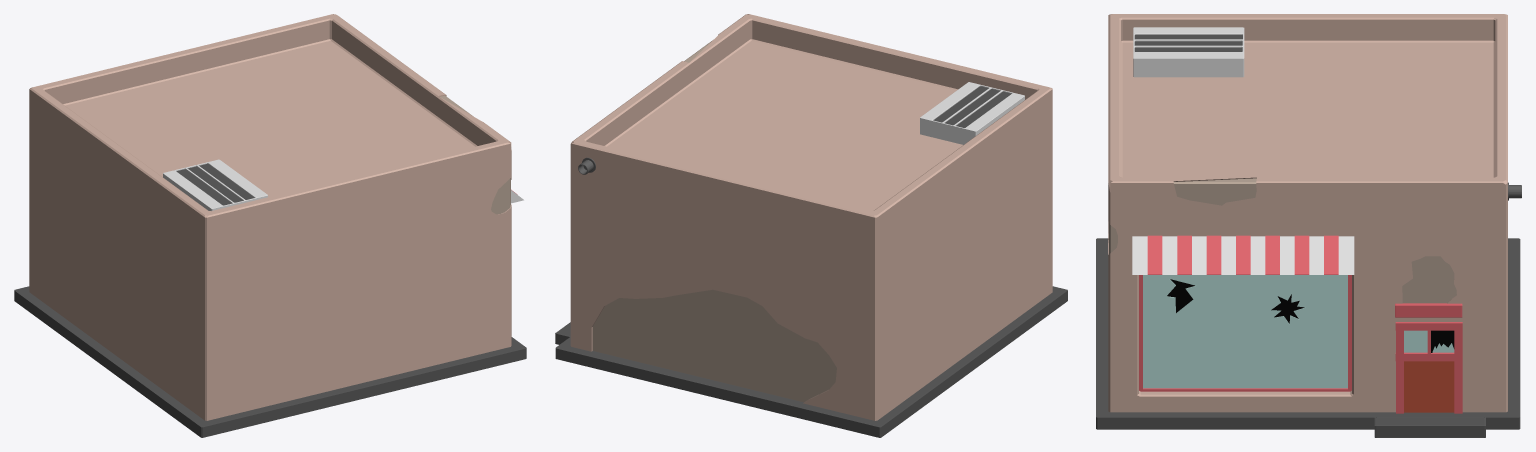
Rendered from Store.fbx.
The picture shows the model from 3 angles, left to right: view 1: azimuth 30°, elevation 25°; view 2: azimuth 150°, elevation 25°; view 3: azimuth 270°, elevation 25°; orthographic projection. The views are drawn at different scales.
Visible parts, largest first — view 1: Cube, Floor, Air.002, Air.001; view 2: Cube, Cube.014, Floor, Air.002, Air.001; view 3: Cube, Cube.002, Floor, Cube.001, Air.002, Cube.004, Cube.005, Floor.001, Cube.007, Cube.013, Cube.003, Air.001 (+8 smaller).
Part boxes in pixels (x1,y1,x2,y2): Cube: [29, 14, 511, 420]; Floor: [14, 286, 526, 437]; Air.002: [163, 159, 267, 210]; Air.001: [176, 163, 254, 205]; Cube: [570, 14, 1052, 420]; Cube.014: [592, 289, 836, 402]; Floor: [555, 286, 1067, 437]; Air.002: [920, 82, 1024, 144]; Air.001: [933, 86, 1011, 127]; Cube: [1108, 14, 1507, 412]; Cube.002: [1143, 275, 1347, 388]; Floor: [1096, 238, 1520, 429]; Cube.001: [1132, 236, 1354, 274]; Air.002: [1133, 27, 1244, 77]; Cube.004: [1147, 235, 1338, 274]; Cube.005: [1404, 361, 1454, 412]; Floor.001: [1374, 417, 1485, 437]; Cube.007: [1402, 256, 1456, 303]; Cube.013: [1173, 178, 1256, 205]; Cube.003: [1139, 275, 1351, 391]; Air.001: [1134, 35, 1242, 51].
Bounding box in the file's own units: 554 × 334 × 532.
